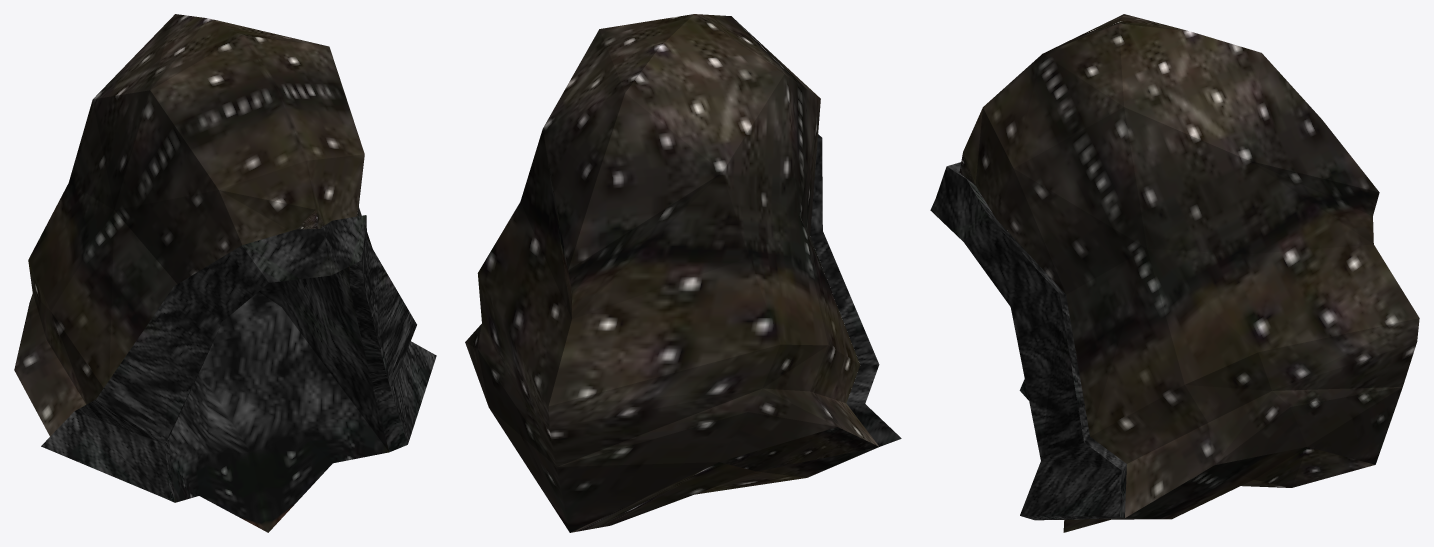
Rendered from SYN_HOOD_03.glb.
3 renders of one model, left to right at view 1: azimuth 30°, elevation 25°; view 2: azimuth 150°, elevation 25°; view 3: azimuth 270°, elevation 25°, orthographic. The views are drawn at different scales.
Visible parts, largest first — view 1: SYN_HOOD_03; view 2: SYN_HOOD_03; view 3: SYN_HOOD_03.
Boxes of the visible parts, left/top/right/bottom form: SYN_HOOD_03: left=14, top=14, right=436, bottom=532; SYN_HOOD_03: left=465, top=14, right=901, bottom=532; SYN_HOOD_03: left=930, top=14, right=1419, bottom=532.
Size of the model in its own units: 0.3558 by 0.4106 by 0.3575.
Materials: 2 (2 with a texture image).
